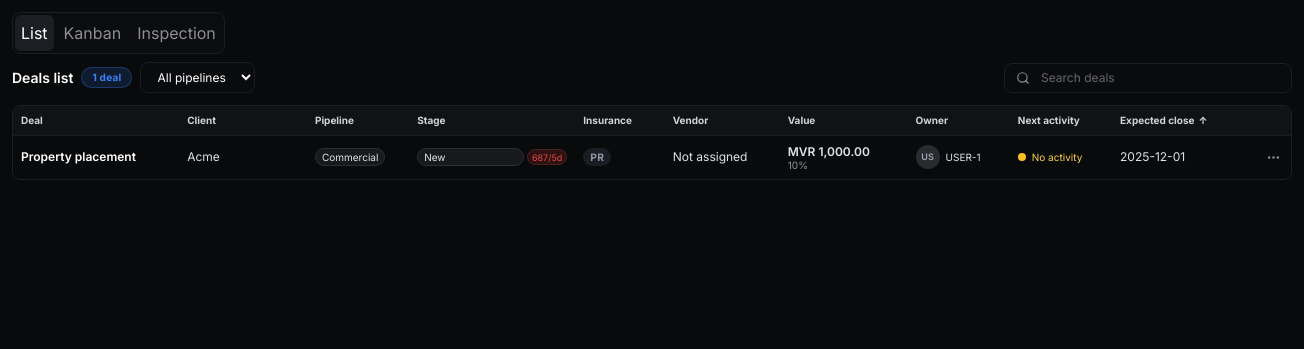
Test: Deal list row accessibility › shows an empty Inspection state without a record selector when nothing is selected
Step 1. Click the tab "Inspection" → [176, 33], box [131, 15, 222, 51]
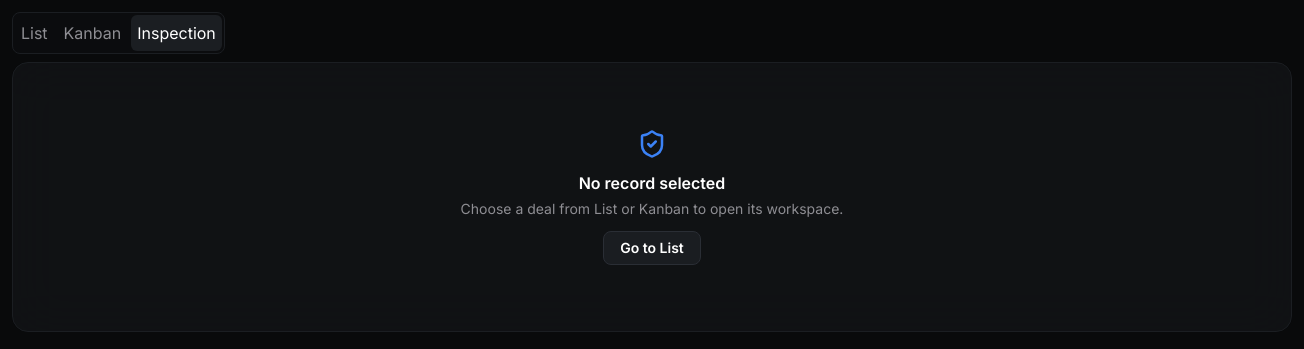
Expected: the text "No record selected" is shown, [579, 171, 725, 195]
Expected: the text "Go to List" is shown, [603, 231, 701, 265]
